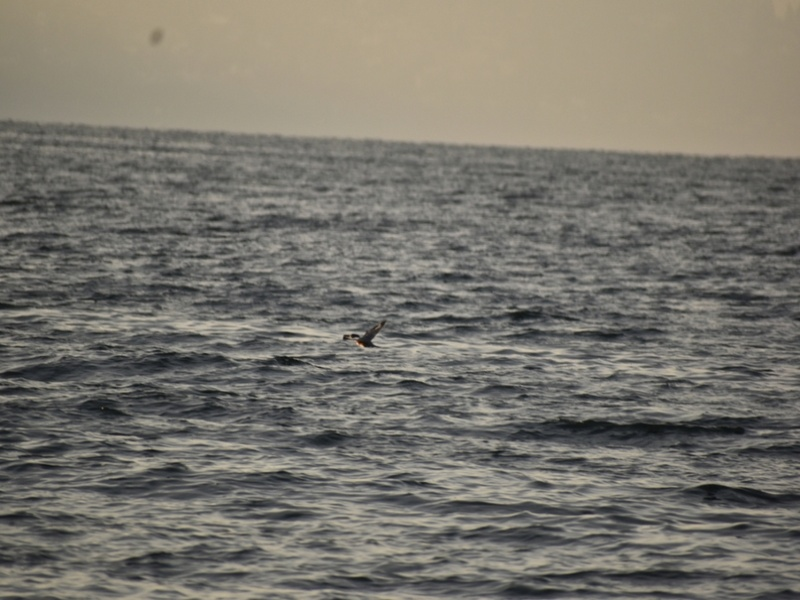kingfisher: (343, 320, 385, 353)
